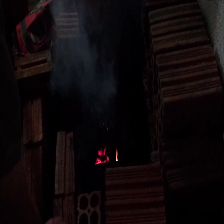fire_l: (95, 147, 109, 165), (115, 150, 119, 162)
